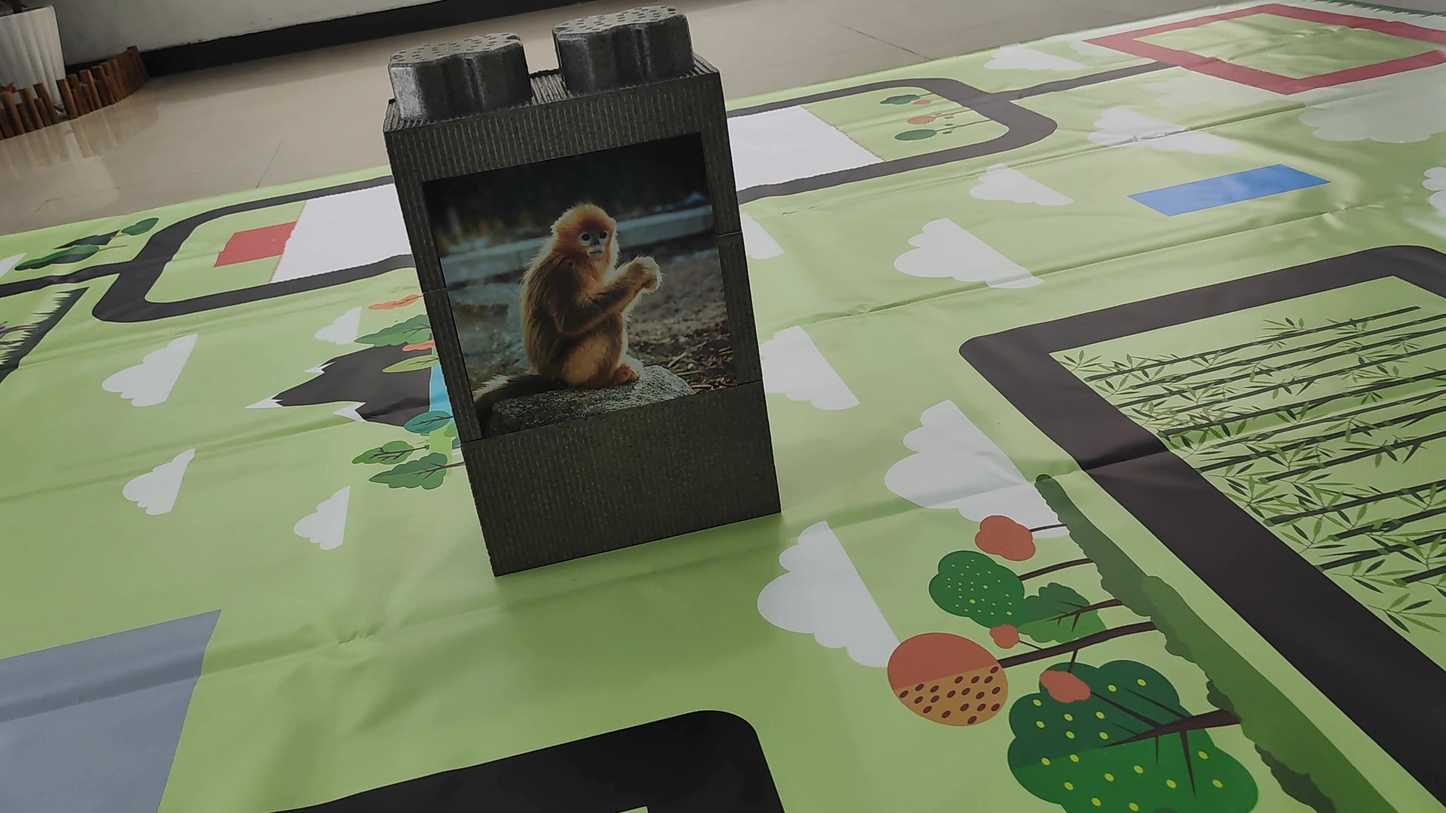monkey: (459, 188, 680, 408)
